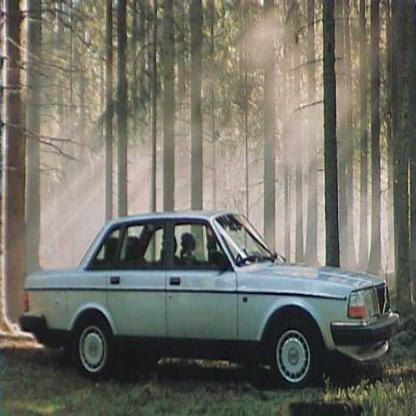Vehicle: (20, 207, 399, 394)
